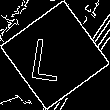L_N: (35, 27, 75, 83)
